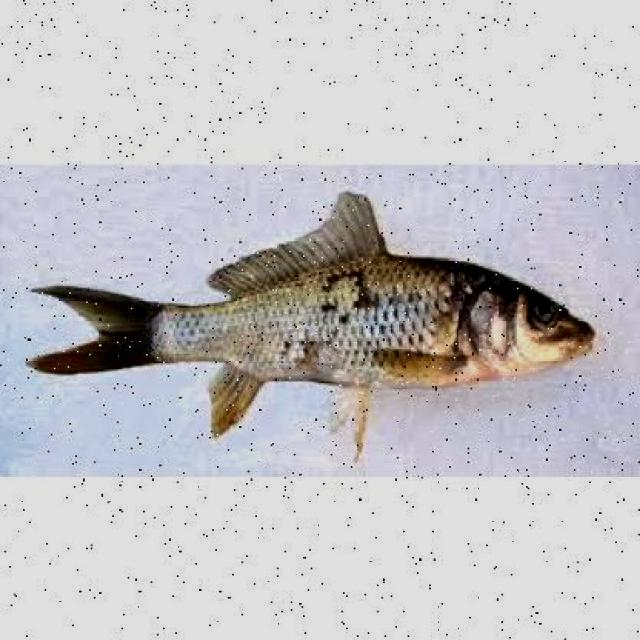ikan-mas: (26, 190, 600, 428)
